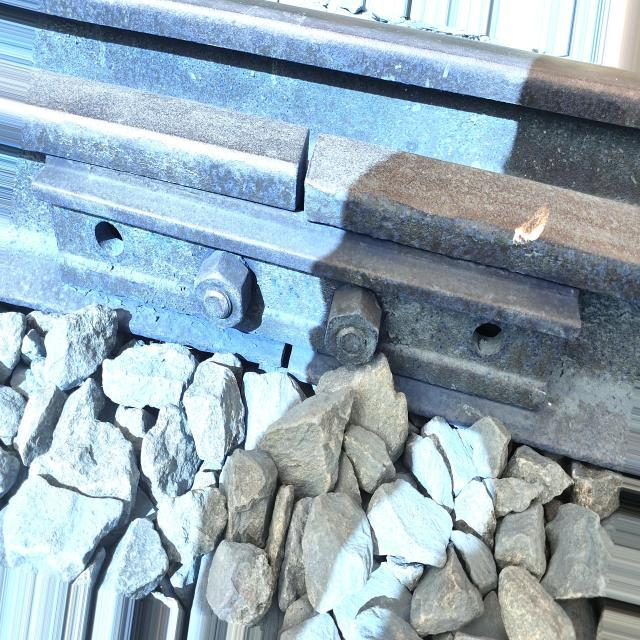Defective Joint: (49, 142, 611, 433)
